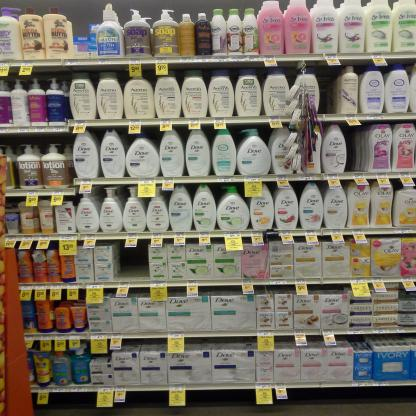Void: (122, 245, 148, 275), (318, 70, 336, 111)
